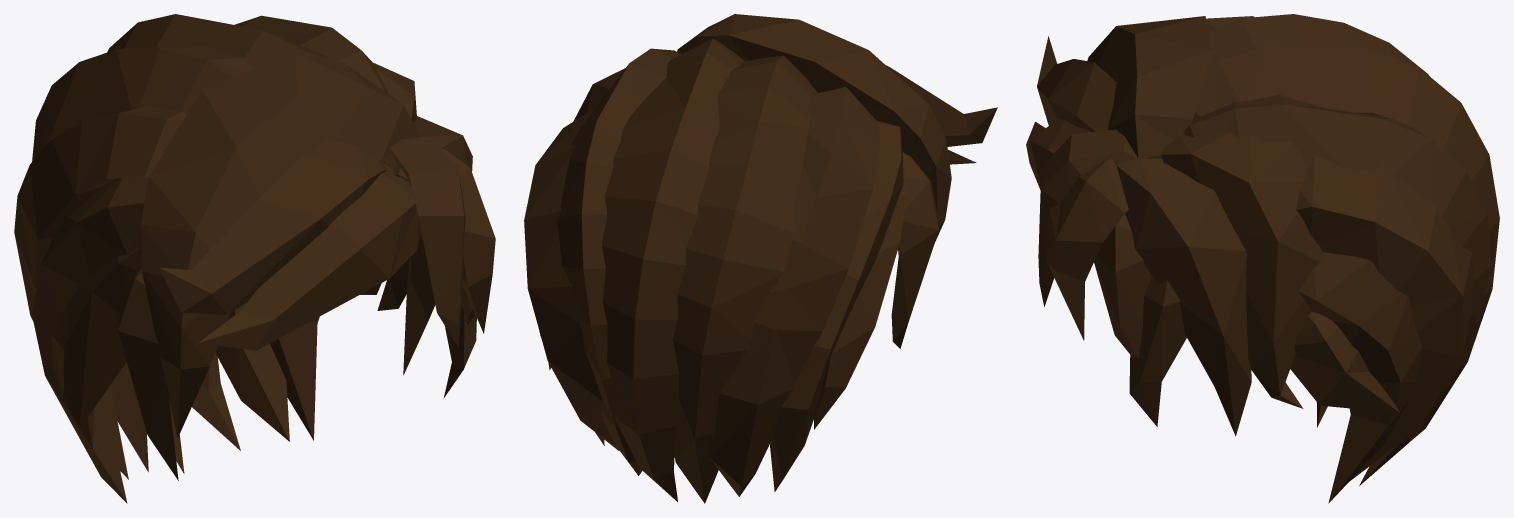
Rendered from hair-parted.high.d319777b.glb.
The picture shows the model from 3 angles, left to right: view 1: azimuth 30°, elevation 25°; view 2: azimuth 150°, elevation 25°; view 3: azimuth 270°, elevation 25°; orthographic projection. The views are drawn at different scales.
Visible parts, largest first — view 1: hair-parted; view 2: hair-parted; view 3: hair-parted.
Boxes of the visible parts, box(x1,y1,x2,y2) form: hair-parted: box(14, 14, 495, 503); hair-parted: box(524, 14, 997, 503); hair-parted: box(1026, 14, 1499, 503).
Bounding box in the file's own units: 0.2229 × 0.2619 × 0.2552.
